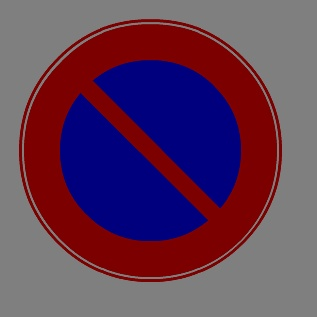Prohibition_sign: (6, 7, 302, 310)
